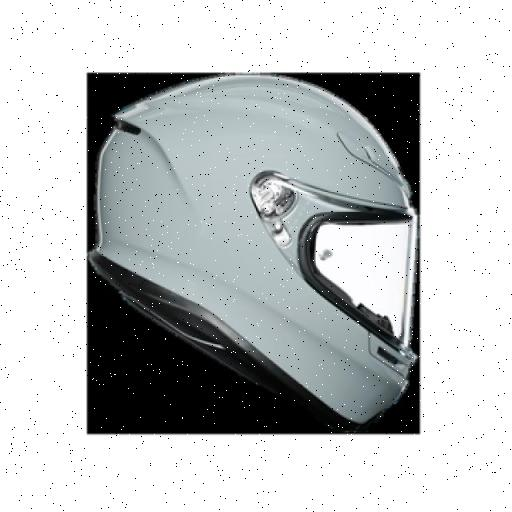Helmet: (85, 70, 422, 446)
